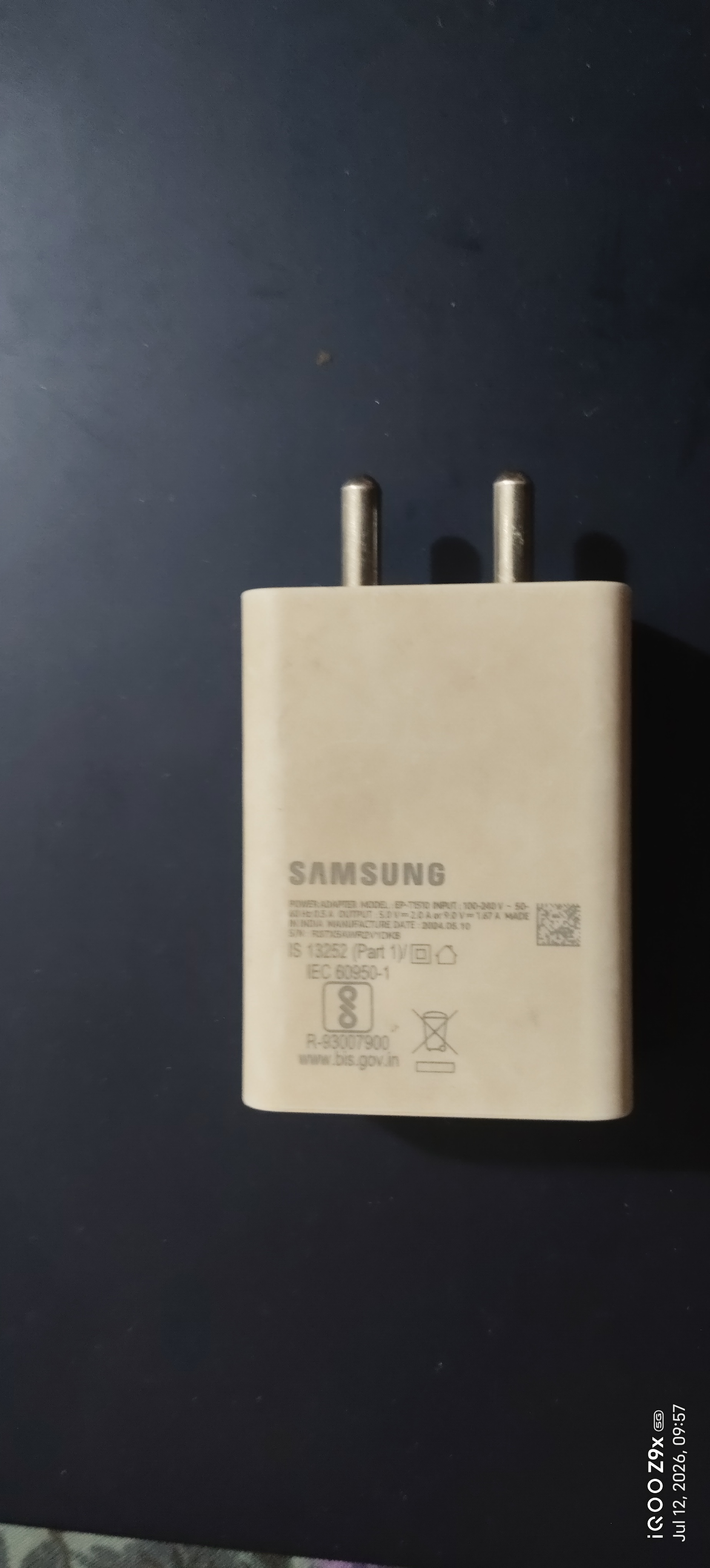charger: (183, 449, 692, 1185)
